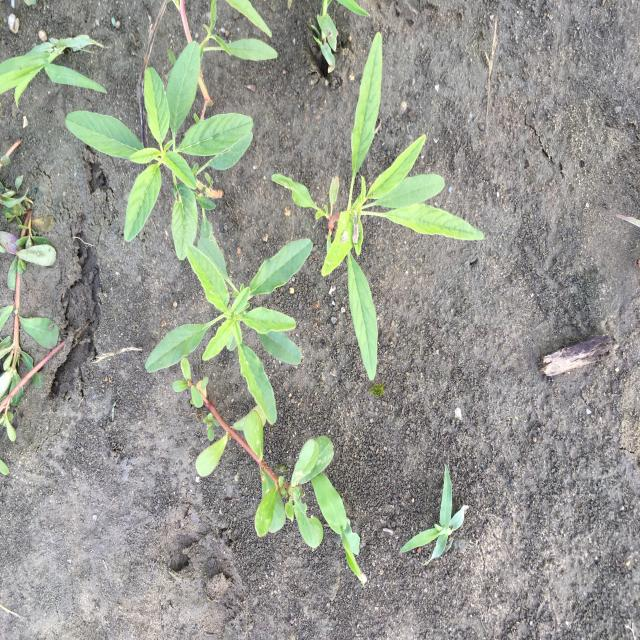Goosegrass: (394, 460, 472, 565)
Purslane: (172, 356, 334, 550), (1, 210, 62, 482)
Waterhemp: (270, 28, 486, 383), (64, 40, 254, 262), (143, 236, 314, 426)
